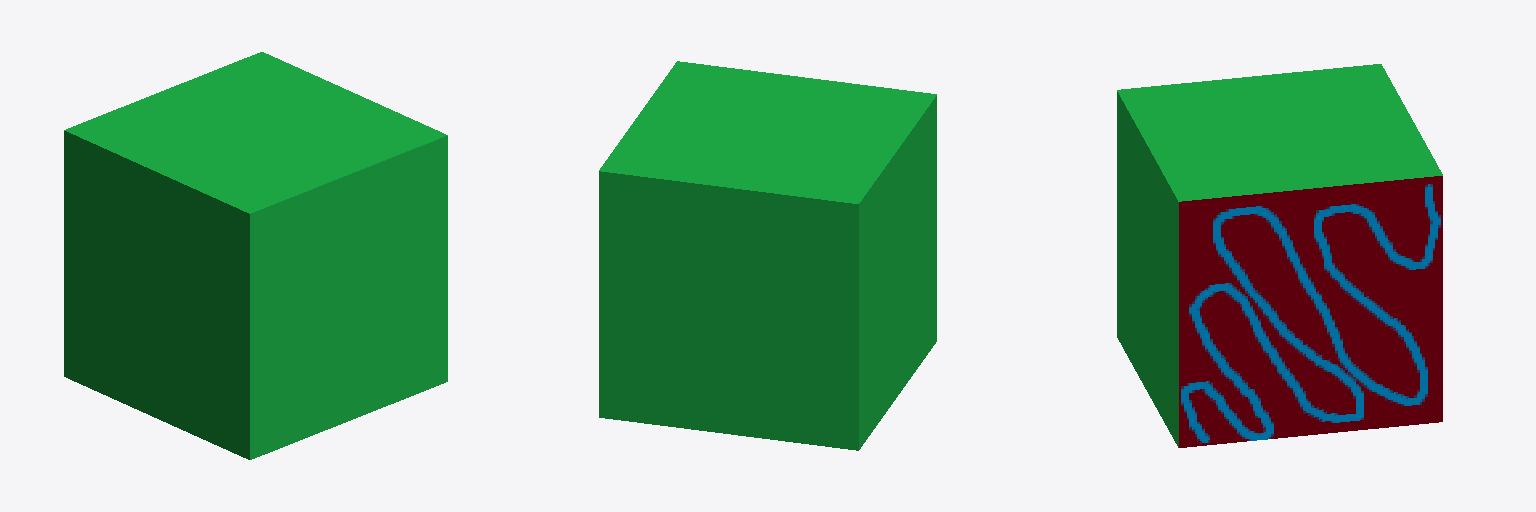
3 renders of one model, left to right at view 1: azimuth 30°, elevation 25°; view 2: azimuth 150°, elevation 25°; view 3: azimuth 270°, elevation 25°, orthographic.
Parts seen in each view (by area): view 1: Object.1; view 2: Object.1; view 3: Object.1.
Part boxes in pixels (x1,y1,x2,y2): Object.1: (64,52,447,459); Object.1: (599,61,936,450); Object.1: (1117,64,1442,447).
Bounding box in the file's own units: 1.2 × 1 × 1.2.
Materials: 3 (1 with a texture image).